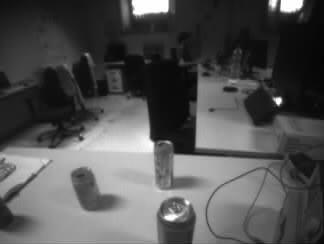Tin can: (158, 198, 195, 244), (73, 168, 100, 209), (154, 141, 174, 189)
